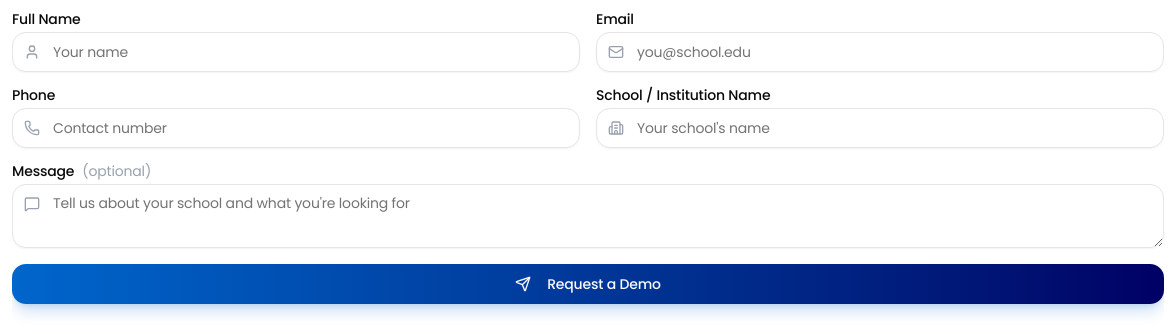
DemoRequestForm › submits the form to /api/public/demo-request and shows a confirmation
Type "Jane Doe" into the field labelled "Full Name" at (296, 52), box [12,32,580,72]
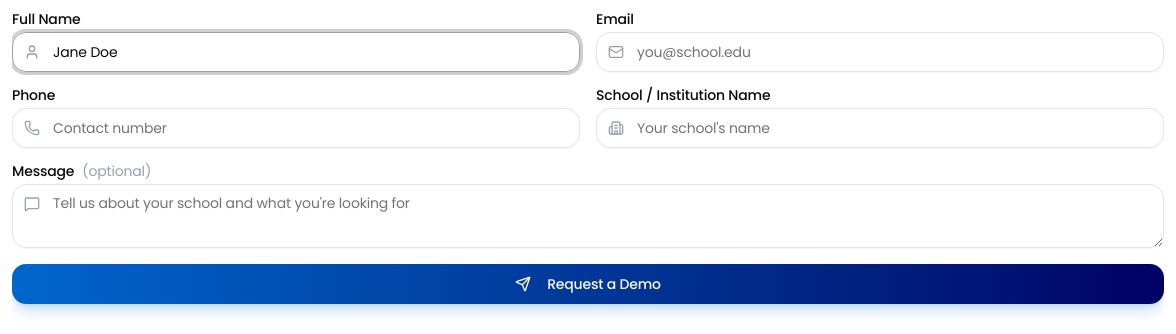
Type "jane@example.com" into the field labelled "Email" at (880, 52), box [596,32,1164,72]
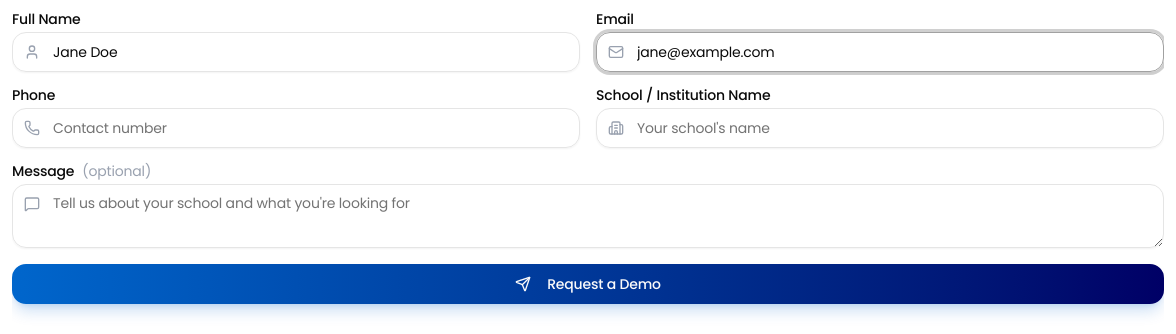
Type "9876543210" into the field labelled "Phone" at (296, 128), box [12,108,580,148]
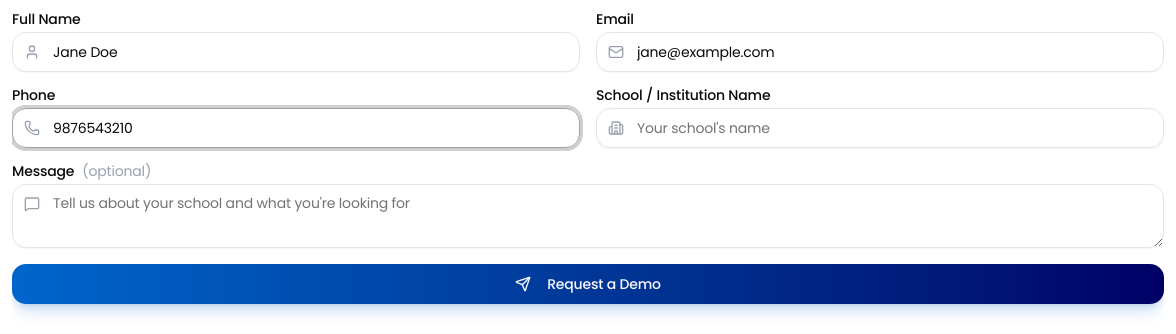
Type "Greenwood High" into the field labelled "School / Institution Name" at (880, 128), box [596,108,1164,148]
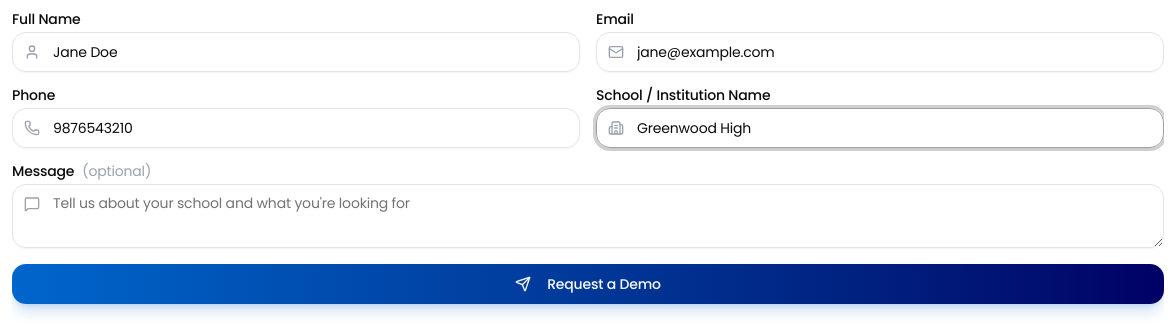
Click the button "Request a Demo" at (588, 284), box [12,264,1164,304]
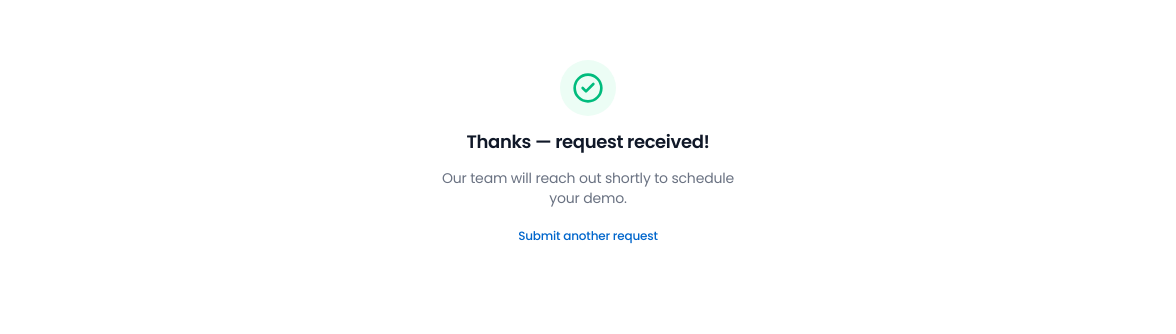
Expected: the heading "Thanks — request received!" is shown, [466,128,710,156]
